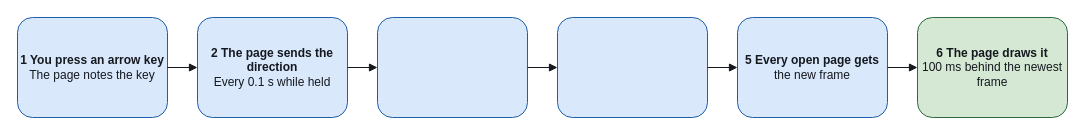
The diagram is 1085 pixels wide and 135 high, and some of its shapes have lost their labels. The shapes that lost their labels are listed below. From the top down, each one's centre as x and y in pixels, then its label:
At pixel 452 67: "3 The server holds it For 0.25 s after each message".
At pixel 632 67: "4 The next decision moves your body by 0.1 s of game time".
